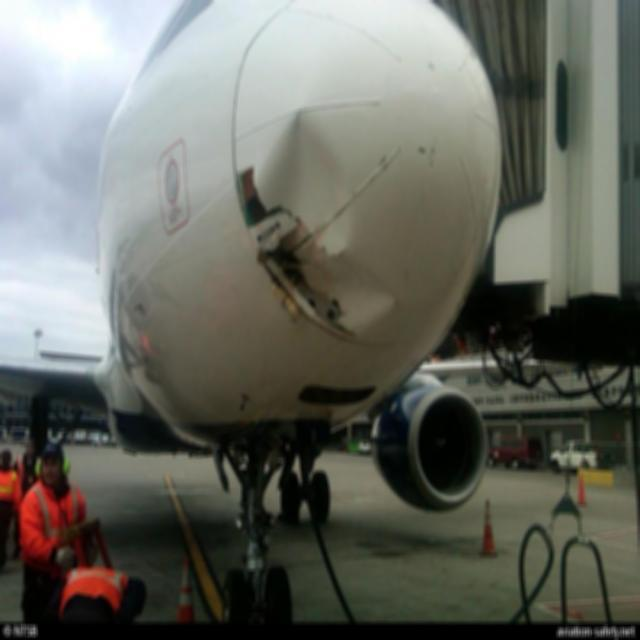dent: (268, 115, 353, 256), (327, 266, 398, 327)
